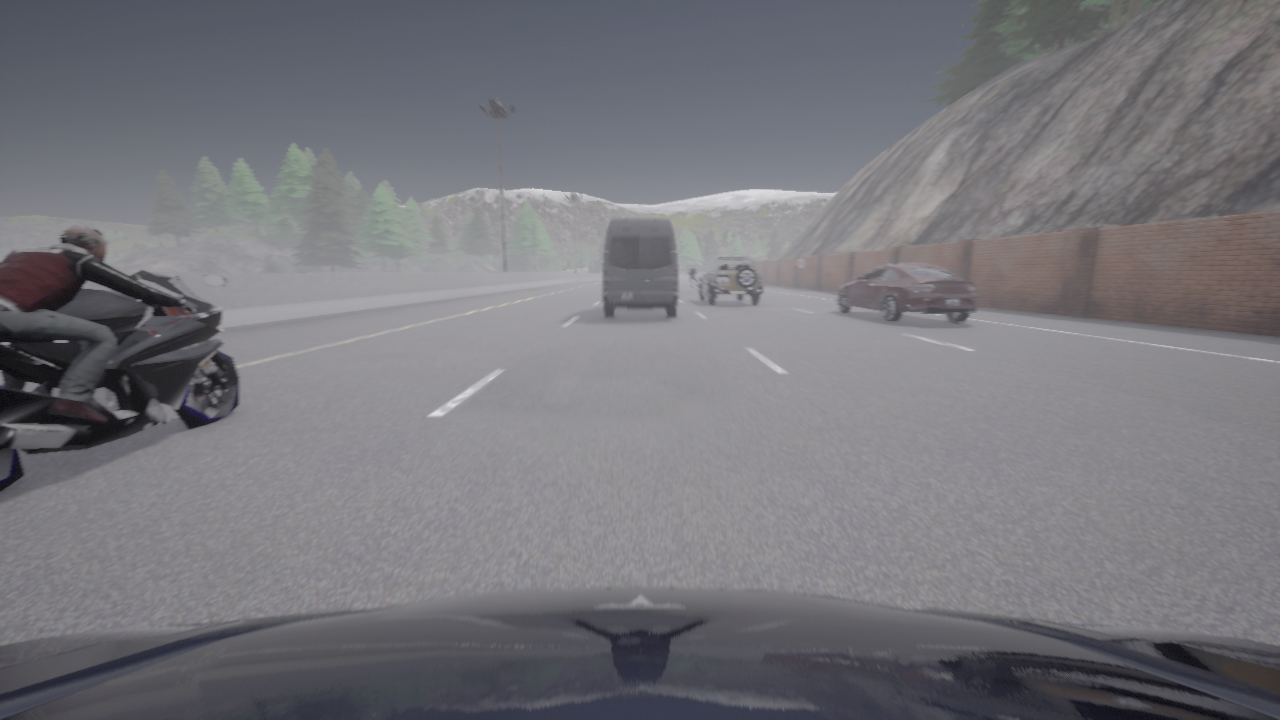cyclist: (0, 588, 1279, 719), (0, 269, 239, 493), (834, 263, 978, 322), (602, 219, 678, 317), (698, 256, 763, 304), (691, 279, 693, 288)
